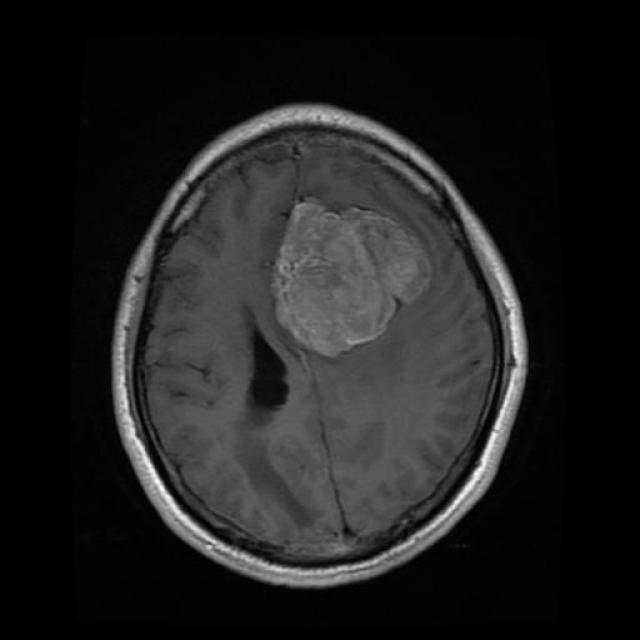meningioma: (271, 199, 432, 360)
